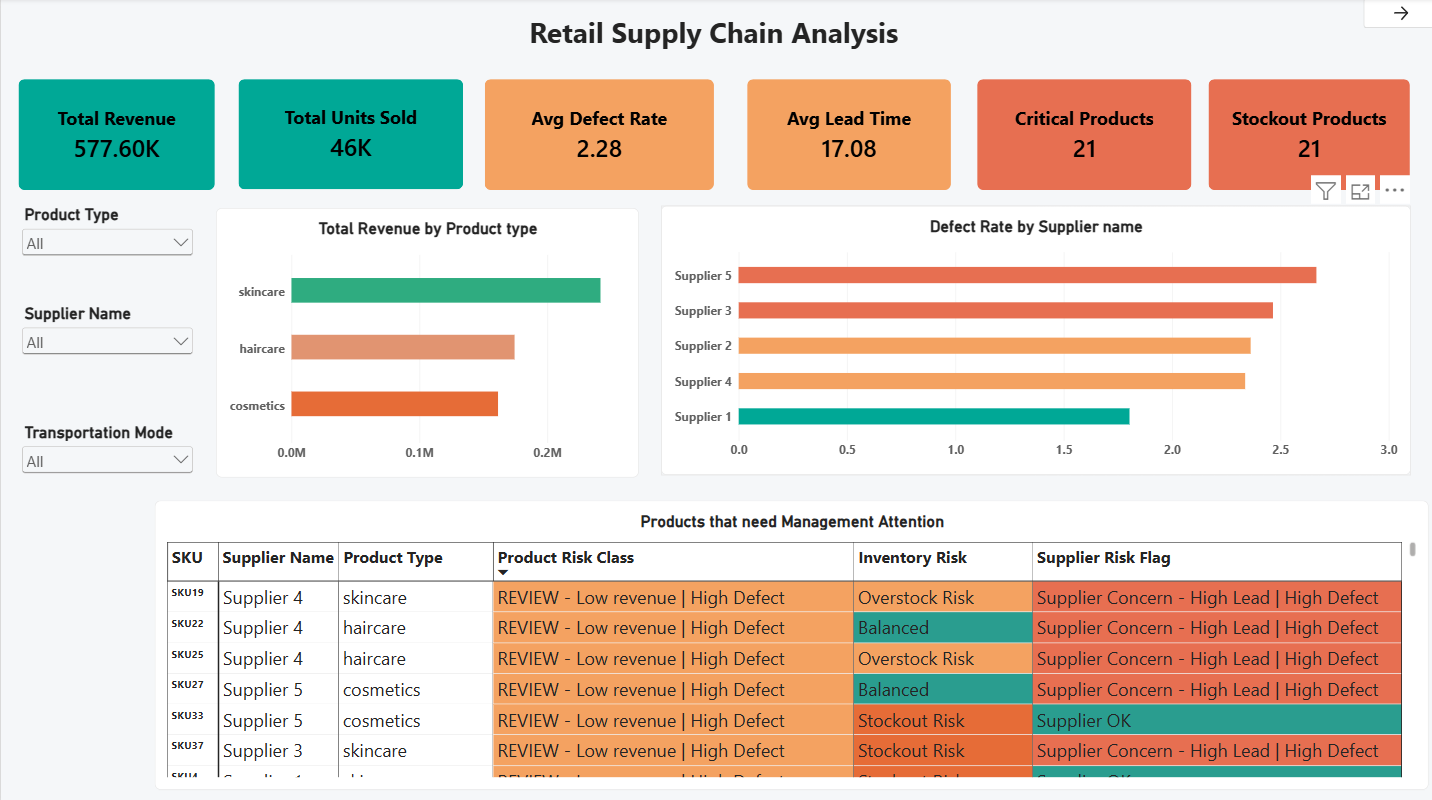

Layout of this report page (visuals, bound fields, positions):
{"tool":"powerbi","page":{"name":"Executive Overview","canvas":[1920,1080],"ordinal":0},"visuals":[{"type":"cardVisual","fields":{"Data":["supply_chain.Total Revenue"]},"box":[23.6,107.8,262.7,148.2],"z":0},{"type":"cardVisual","fields":{"Data":["supply_chain.Total Units Sold"]},"box":[316.6,107.8,300.8,147.2],"z":1000},{"type":"cardVisual","fields":{"Data":["supply_chain.Avg Defect Rate"]},"box":[646.7,107.8,306.5,148.2],"z":2000},{"type":"cardVisual","fields":{"Data":["supply_chain.Avg Lead Time"]},"box":[997.1,107.8,272.8,148.2],"z":3000},{"type":"cardVisual","fields":{"Data":["supply_chain.Critical Products"]},"box":[1303.6,107.8,286.3,148.2],"z":4000},{"type":"cardVisual","fields":{"Data":["supply_chain.Stockout Risk Products"]},"box":[1613.5,107.8,269.5,148.2],"z":5000},{"type":"barChart","fields":{"Category":["vw_product_performance.Product type"],"Y":["supply_chain.Total Revenue"]},"box":[287.5,280.9,565.1,360.2],"z":6000},{"type":"clusteredBarChart","title":"Defect Rate by Supplier name","fields":{"Category":["supply_chain.Supplier name"],"Y":["supply_chain.Supplier Avg Defect Rate"]},"box":[882.3,277.6,1001.3,360.2],"z":7000},{"type":"pivotTable","title":"Products that need Management Attention","fields":{"Rows":["vw_management_attention.SKU"],"Values":["Min(vw_management_attention.Supplier name)","Min(vw_management_attention.Product type)","Min(vw_management_attention.Product risk class)","Min(vw_management_attention.Inventory risk)","Min(vw_management_attention.Supplier risk flag)"]},"box":[204.9,670.8,1701.9,386.6],"z":8000},{"type":"actionButton","box":[1820.9,0,100,40],"z":9000},{"type":"slicer","fields":{"Values":["supply_chain.Product type"]},"box":[23.1,277.6,237.9,102.4],"z":10000},{"type":"slicer","fields":{"Values":["supply_chain.Supplier name"]},"box":[23.1,409.8,237.9,102.4],"z":11000},{"type":"slicer","fields":{"Values":["supply_chain.Transportation modes"]},"box":[23.1,568.4,237.9,102.4],"z":12000},{"type":"textbox","box":[347.1,19.3,1209.6,68.7],"z":13000}]}

Visuals, with their boxes in screenshot pixels (x1, y1, x2, y2), scaled from the page's 1920x1080 canvas onto the 1432x800 screenshot:
cardVisual - supply_chain.Total Revenue: BBox(18, 80, 214, 190)
cardVisual - supply_chain.Total Units Sold: BBox(236, 80, 460, 189)
cardVisual - supply_chain.Avg Defect Rate: BBox(482, 80, 711, 190)
cardVisual - supply_chain.Avg Lead Time: BBox(744, 80, 947, 190)
cardVisual - supply_chain.Critical Products: BBox(972, 80, 1186, 190)
cardVisual - supply_chain.Stockout Risk Products: BBox(1203, 80, 1404, 190)
barChart - vw_product_performance.Product type x supply_chain.Total Revenue: BBox(214, 208, 636, 475)
"Defect Rate by Supplier name" clusteredBarChart: BBox(658, 206, 1405, 472)
"Products that need Management Attention" pivotTable: BBox(153, 497, 1422, 783)
actionButton: BBox(1358, 0, 1431, 30)
slicer - supply_chain.Product type: BBox(17, 206, 195, 281)
slicer - supply_chain.Supplier name: BBox(17, 304, 195, 379)
slicer - supply_chain.Transportation modes: BBox(17, 421, 195, 497)
textbox: BBox(259, 14, 1161, 65)
